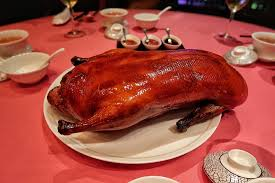peking_duck: (37, 42, 255, 146)
